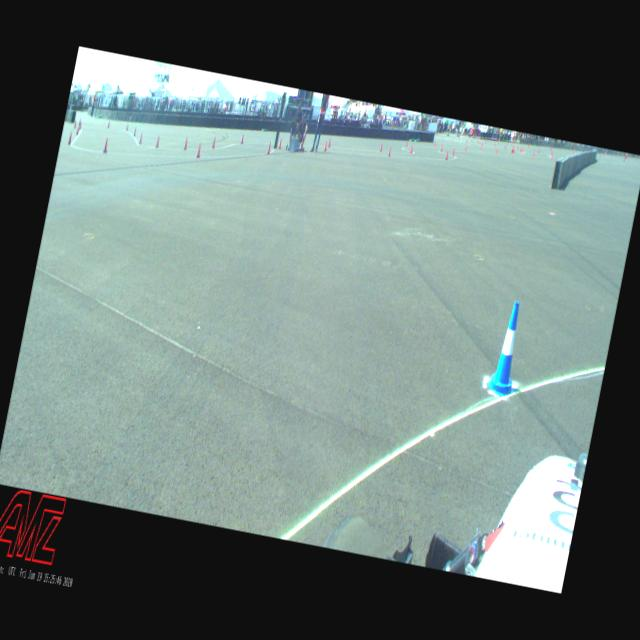blue_cone: (485, 299, 530, 399)
unknown_cone: (103, 137, 110, 153), (196, 142, 202, 158), (68, 131, 74, 145), (211, 136, 217, 150), (184, 136, 189, 150), (267, 141, 272, 154), (156, 135, 160, 148), (324, 140, 328, 152)
